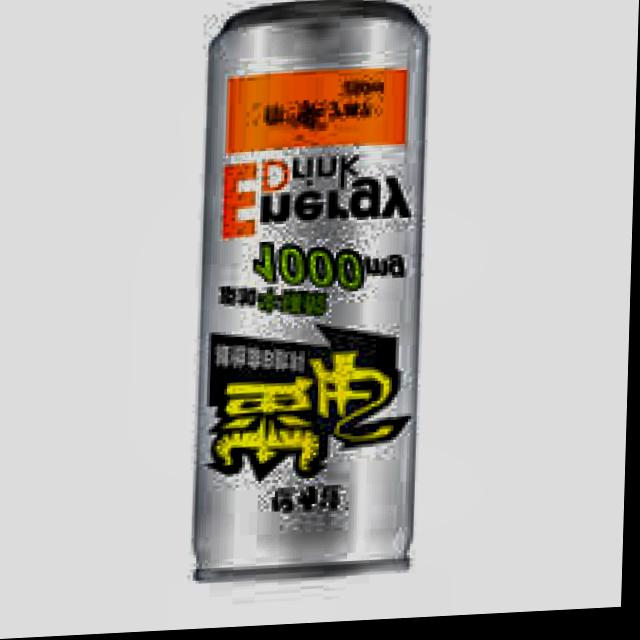can: (188, 0, 442, 601)
